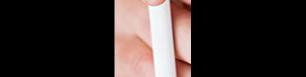Cigarette: (140, 0, 183, 77)
